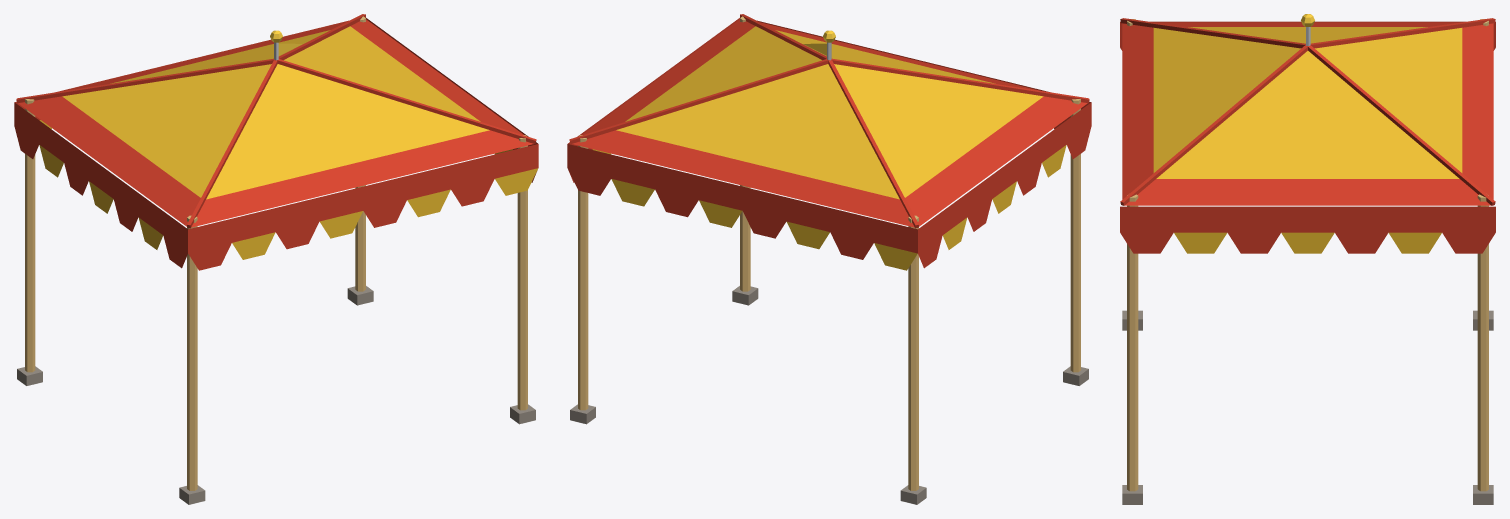
The model's file is canopy_yellow.glb.
3 renders of one model, left to right at view 1: azimuth 30°, elevation 25°; view 2: azimuth 150°, elevation 25°; view 3: azimuth 270°, elevation 25°, orthographic. The views are drawn at different scales.
Visible parts, largest first — view 1: canopy_yellow; view 2: canopy_yellow; view 3: canopy_yellow.
Boxes of the visible parts, box(x1,y1,x2,y2) form: canopy_yellow: box(14, 14, 538, 504); canopy_yellow: box(567, 14, 1091, 504); canopy_yellow: box(1120, 14, 1495, 504).
Bounding box in the file's own units: 4.24 × 4.27 × 3.64.
Materials: 1 (1 with a texture image).
